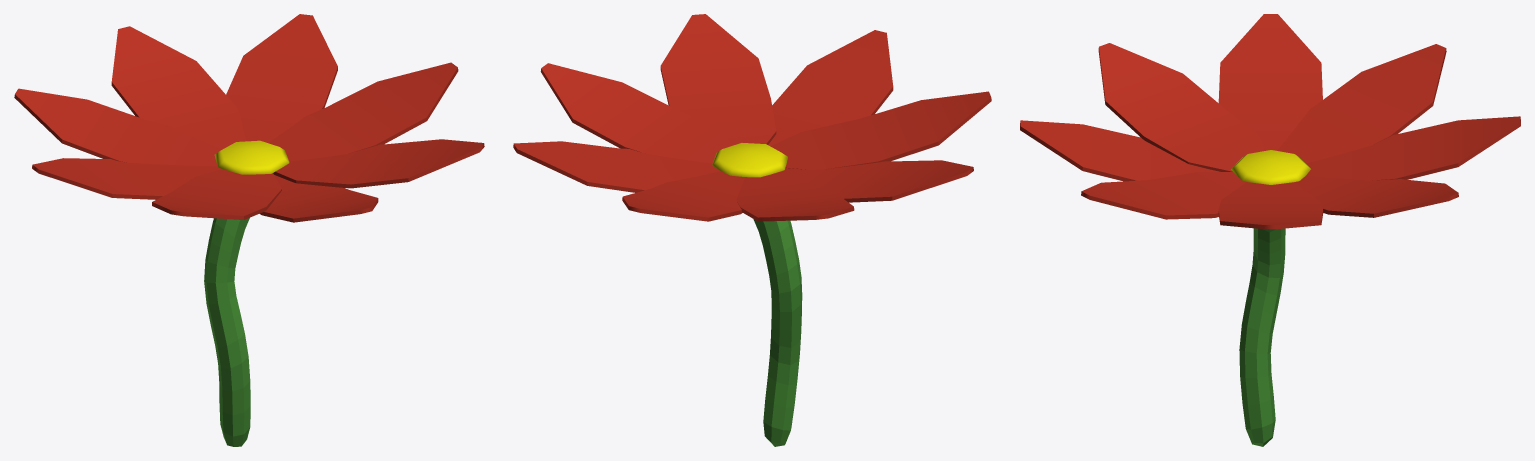
File: Props_modificado1 (3).fbx
3 views of the same model, side by side, from view 1: azimuth 30°, elevation 25°; view 2: azimuth 150°, elevation 25°; view 3: azimuth 270°, elevation 25° (orthographic). The views are drawn at different scales.
Parts seen in each view (by area): view 1: Plane.015, Plane.016, Plane.012, Plane.019, Plane.020, Plane.017, Plane.014, Plane.018, Plane.013, Sphere.003; view 2: Plane.017, Plane.012, Plane.018, Plane.013, Plane.020, Plane.016, Plane.014, Plane.015, Plane.019, Sphere.003; view 3: Plane.018, Plane.019, Plane.014, Plane.015, Plane.020, Plane.013, Plane.017, Plane.016, Plane.012, Sphere.003.
Part boxes in pixels (x1,y1,x2,y2): Plane.015: (111, 26, 246, 149); Plane.016: (226, 14, 337, 142); Plane.012: (268, 62, 458, 161); Plane.019: (14, 88, 221, 166); Plane.020: (204, 218, 250, 446); Plane.017: (273, 139, 484, 188); Plane.014: (32, 158, 222, 199); Plane.018: (152, 169, 281, 219); Plane.013: (259, 175, 378, 222); Sphere.003: (214, 140, 289, 174); Plane.017: (660, 14, 776, 144); Plane.012: (540, 63, 733, 163); Plane.018: (770, 91, 991, 169); Plane.013: (768, 30, 893, 146); Plane.020: (753, 219, 802, 446); Plane.016: (513, 141, 720, 192); Plane.014: (781, 160, 973, 202); Plane.015: (622, 171, 744, 221); Plane.019: (736, 171, 854, 221); Sphere.003: (712, 143, 787, 177); Plane.018: (1098, 43, 1264, 171); Plane.019: (1277, 44, 1446, 163); Plane.014: (1218, 14, 1322, 150); Plane.015: (1306, 116, 1520, 180); Plane.020: (1239, 228, 1285, 446); Plane.013: (1020, 120, 1220, 181); Plane.017: (1081, 172, 1246, 219); Plane.016: (1295, 175, 1458, 217); Plane.012: (1218, 182, 1323, 229); Sphere.003: (1231, 150, 1310, 184).
Size of the model in its own units: 224 by 165 by 224.
